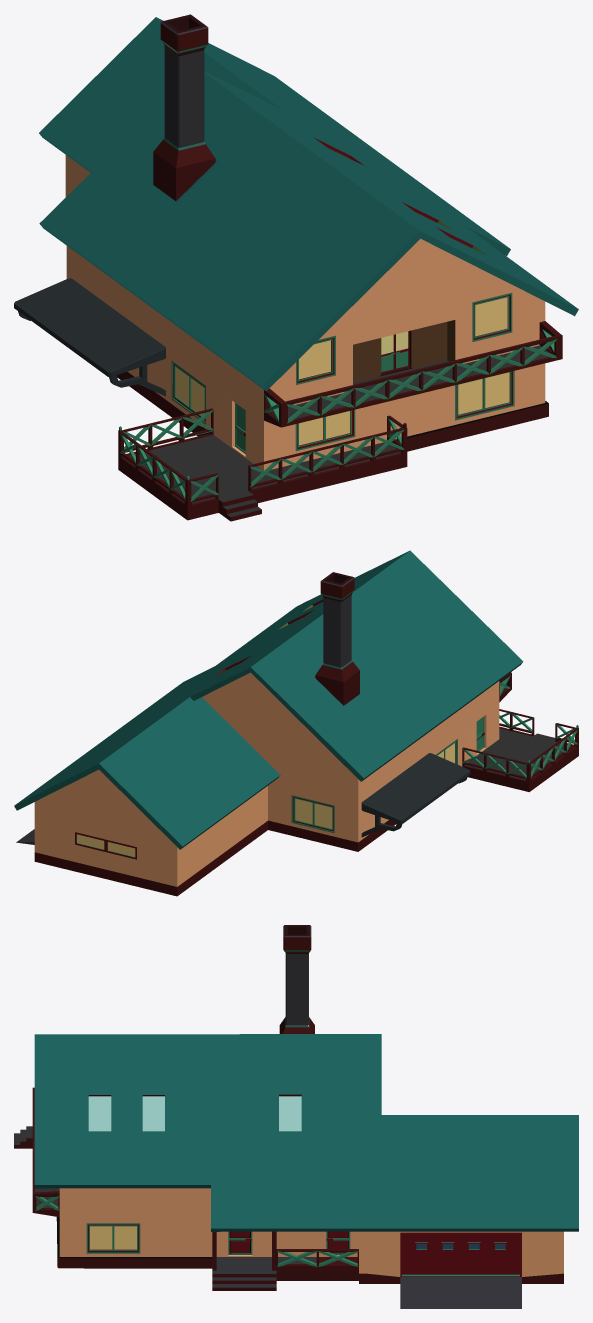
The model's file is Cottage.fbx.
The picture shows the model from 3 angles, top to bottom: view 1: azimuth 30°, elevation 25°; view 2: azimuth 150°, elevation 25°; view 3: azimuth 270°, elevation 25°; orthographic projection. The views are drawn at different scales.
Parts seen in each view (by area): view 1: Cottage, DoorOne; view 2: Cottage; view 3: Cottage, DoorThree, DoorFour.
Part boxes in pixels (x1,y1,x2,y2): Cottage: (14, 14, 578, 521); DoorOne: (381, 331, 409, 373); Cottage: (14, 550, 578, 896); Cottage: (14, 925, 578, 1308); DoorThree: (228, 1231, 252, 1254); DoorFour: (326, 1231, 350, 1254).
Size of the model in its own units: 14.1 by 9.62 by 18.78.
